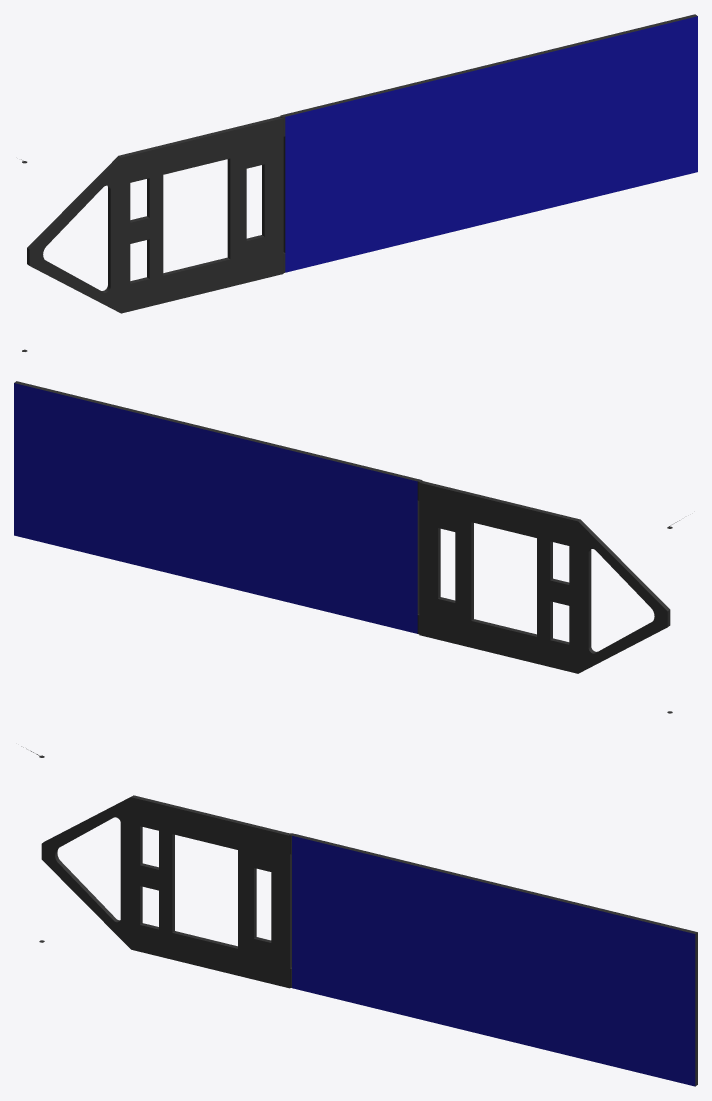
The model's file is Satelite_Panel_Derecho.obj.
The picture shows the model from 3 angles, top to bottom: view 1: azimuth 30°, elevation 25°; view 2: azimuth 150°, elevation 25°; view 3: azimuth 330°, elevation 25°; orthographic projection. The views are drawn at different scales.
Parts seen in each view (by area): view 1: Satelite_Panel_Derecho; view 2: Satelite_Panel_Derecho; view 3: Satelite_Panel_Derecho.
Boxes of the visible parts, bbox=[...] form: Satelite_Panel_Derecho: bbox=[21, 14, 697, 351]; Satelite_Panel_Derecho: bbox=[14, 381, 679, 713]; Satelite_Panel_Derecho: bbox=[21, 746, 697, 1086].
Size of the model in its own units: 18.54 by 5.28 by 0.4798.
